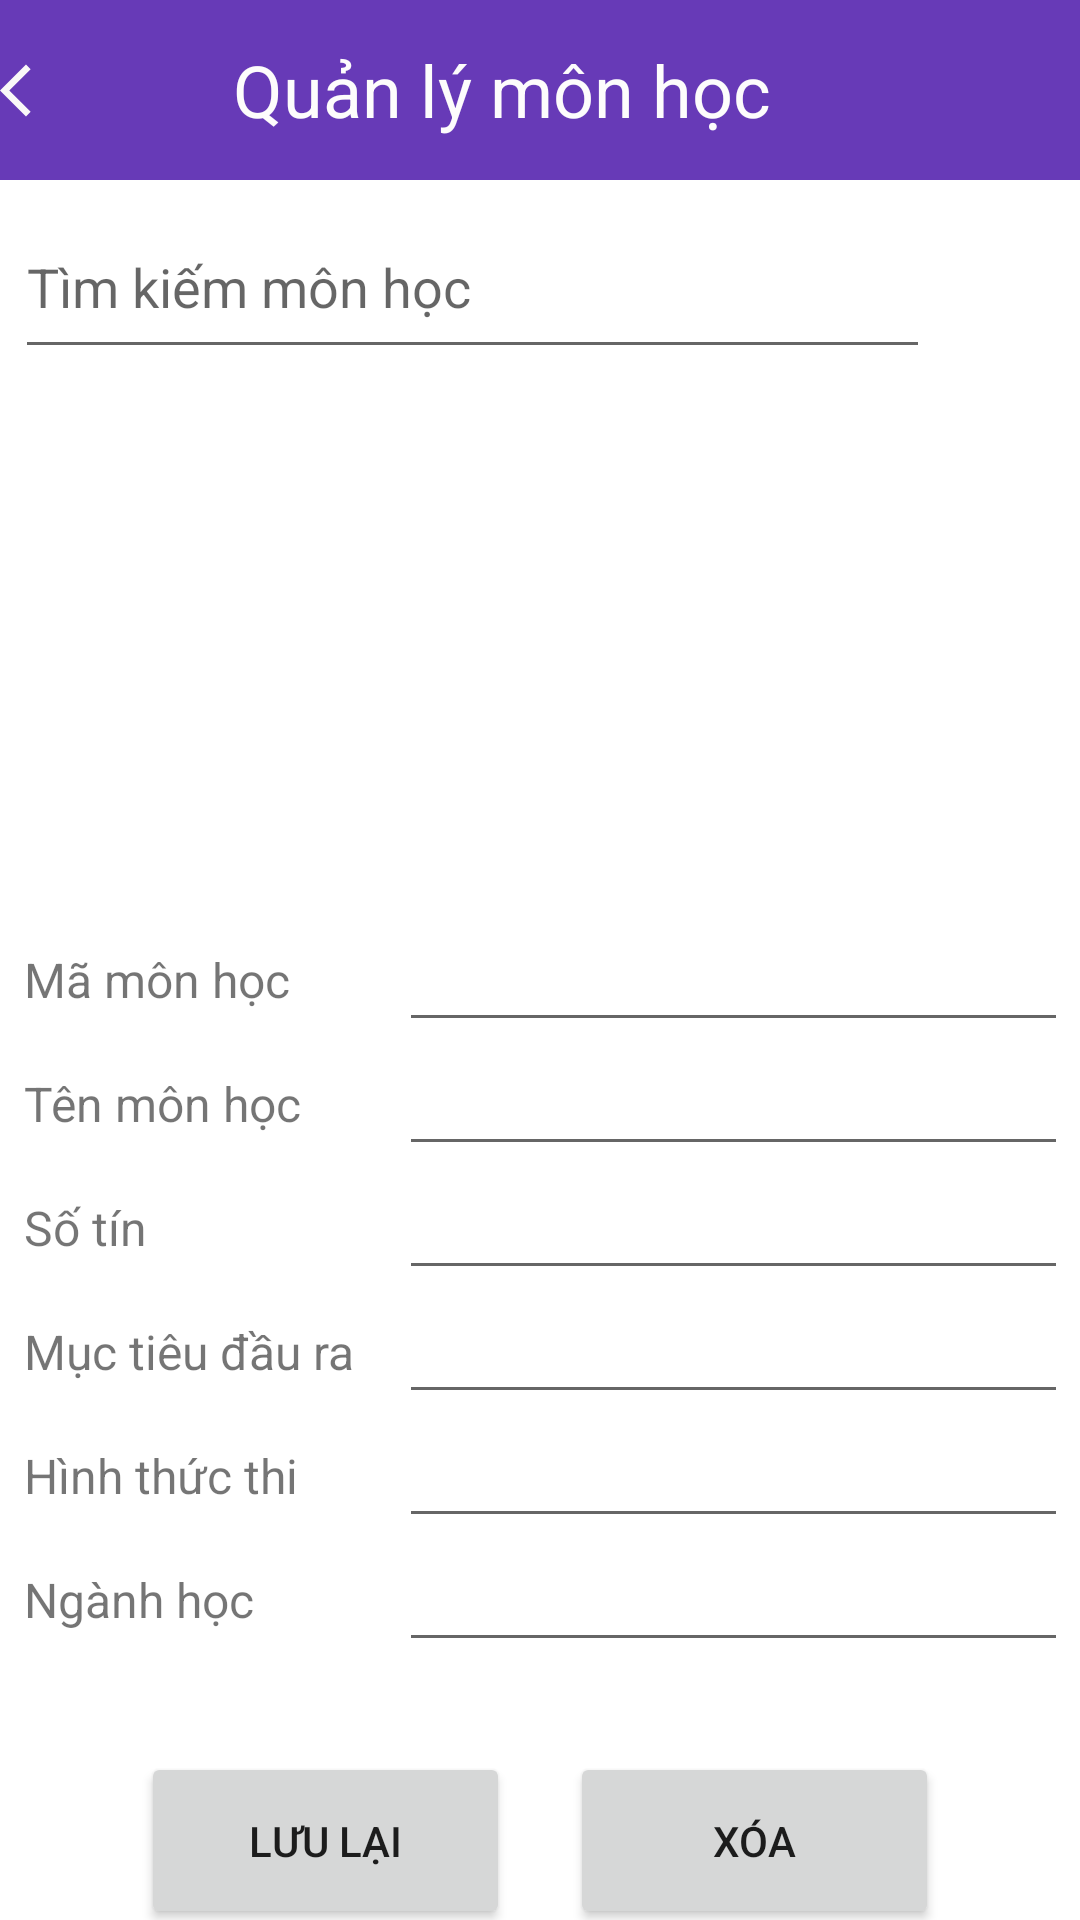

Icon bounding boxes for this 1080px x 1920px phone screenshot, format (x1, y1, x2, y2):
arrow back: (0, 64, 31, 117)
